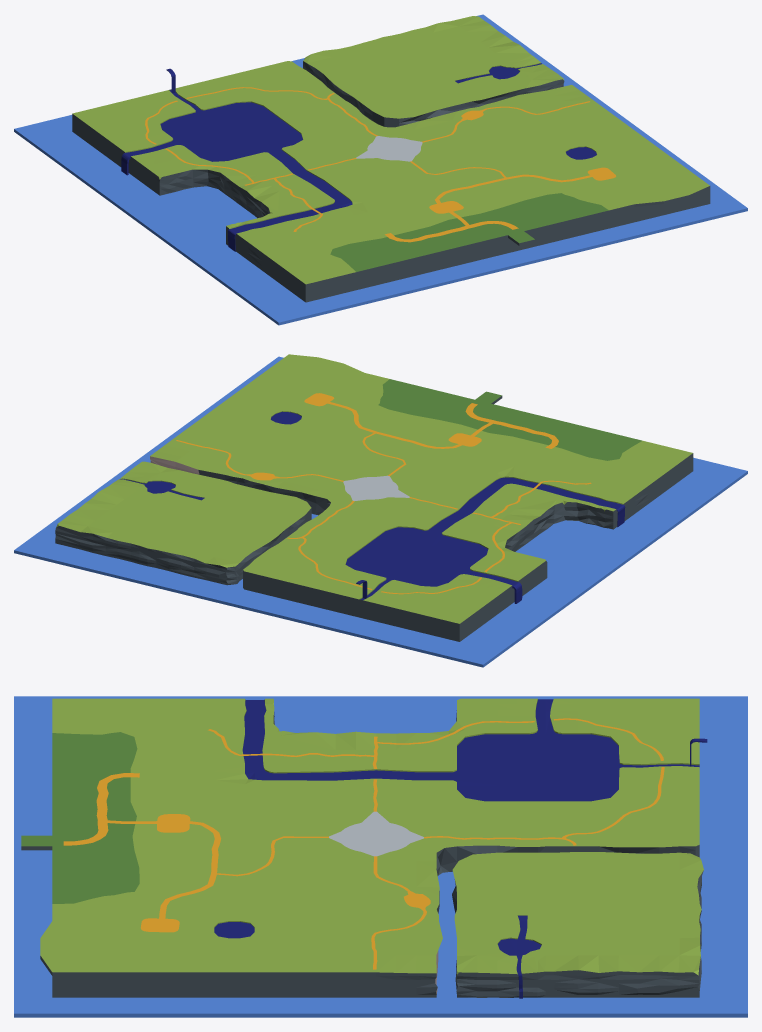
Rendered from ground.obj.
3 renders of one model, top to bottom at view 1: azimuth 30°, elevation 25°; view 2: azimuth 150°, elevation 25°; view 3: azimuth 270°, elevation 25°, orthographic. The views are drawn at different scales.
Parts seen in each view (by area): view 1: Ground, Water-1.001, Path; view 2: Ground, Water-1.001, Path; view 3: Ground, Water-1.001, Path.
Part boxes in pixels (x1,y1,x2,y2): Ground: [72, 16, 710, 302]; Water-1.001: [14, 14, 747, 325]; Path: [145, 87, 615, 242]; Ground: [55, 354, 693, 641]; Water-1.001: [14, 356, 747, 667]; Path: [176, 393, 591, 594]; Ground: [21, 698, 707, 998]; Water-1.001: [14, 696, 747, 1017]; Path: [63, 718, 664, 969].
Size of the model in its own units: 493 by 43.45 by 482.
Materials: 1 (1 with a texture image).
